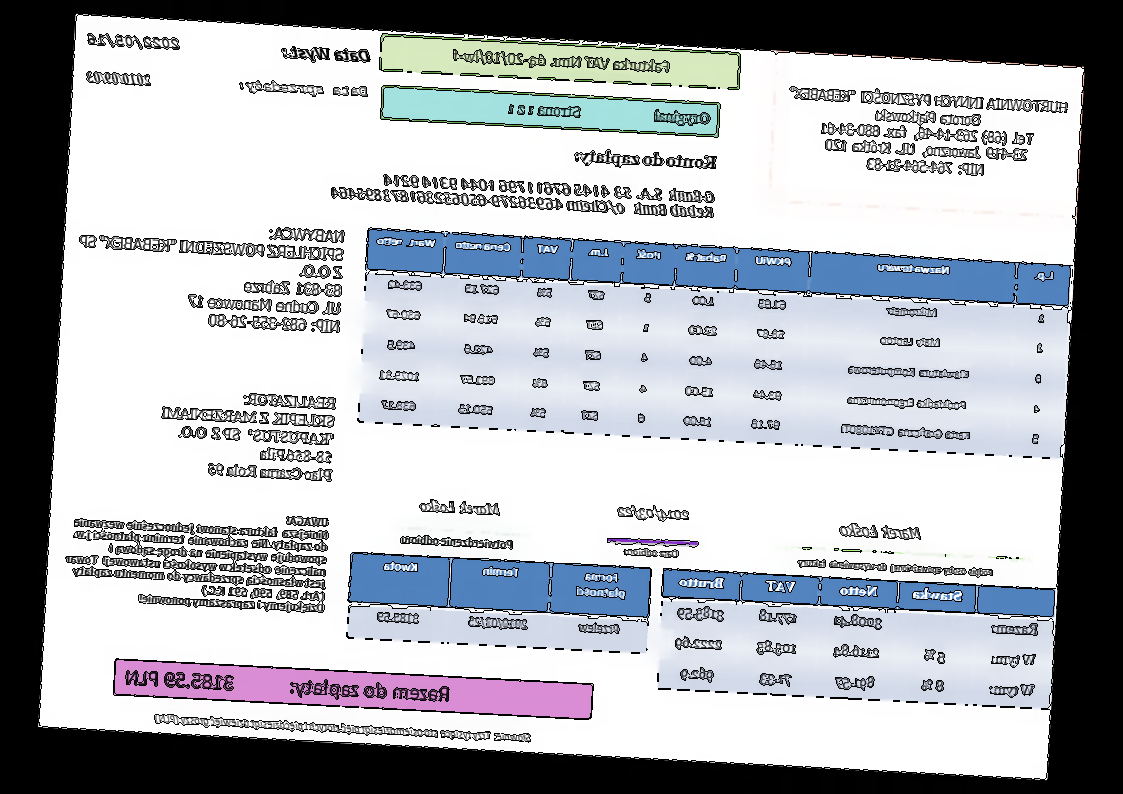Table: (357, 227, 1073, 460), (655, 567, 1057, 711), (346, 551, 653, 655)
TextBox: (73, 215, 348, 336), (61, 501, 332, 616), (783, 83, 1070, 185), (329, 169, 718, 223), (155, 385, 339, 484), (152, 710, 534, 747), (122, 666, 452, 708), (451, 45, 673, 77), (505, 99, 712, 127), (794, 554, 997, 580), (571, 144, 721, 175), (238, 77, 371, 99), (397, 532, 516, 552), (86, 30, 184, 54), (279, 42, 374, 64), (838, 520, 923, 542), (614, 503, 693, 526), (418, 498, 502, 519), (86, 69, 154, 87), (622, 544, 682, 561)
